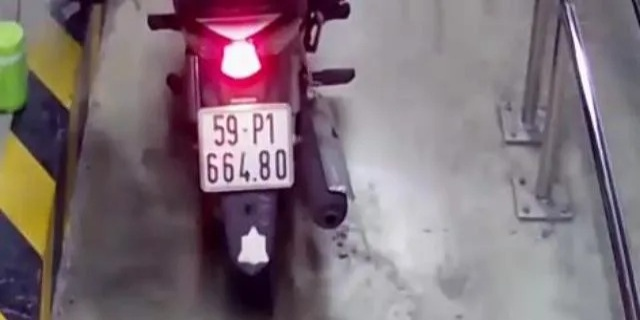bien_so: (197, 108, 296, 190)
